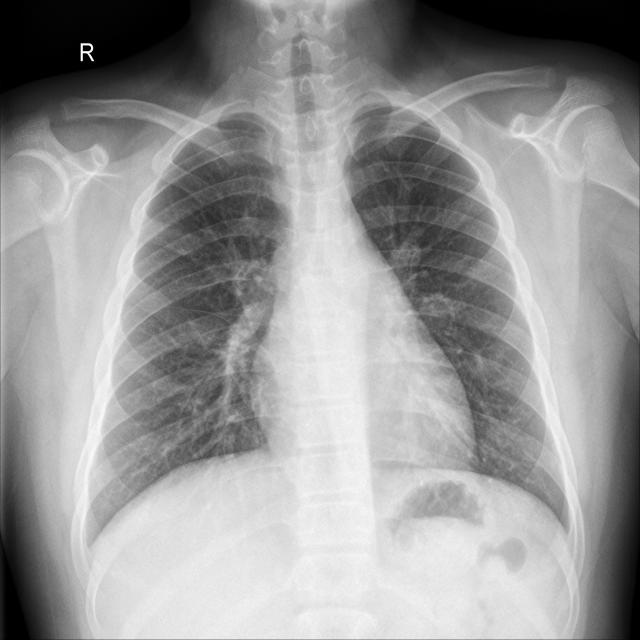no-pneumonia: (345, 105, 569, 521), (89, 114, 289, 536)
